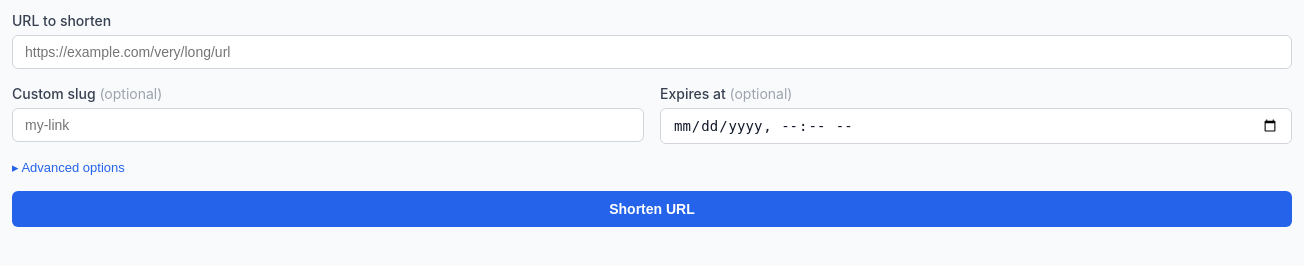
it: ShortenForm › shows a field validation error for an invalid URL
In the field labelled "URL to shorten": (652, 52) [12,35,1292,69], type "not-a-url"
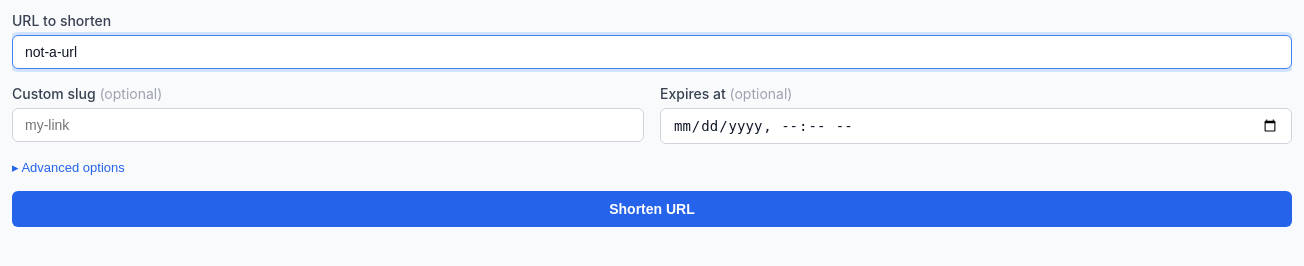
Click the button "Shorten URL": (652, 209) [12,191,1292,227]
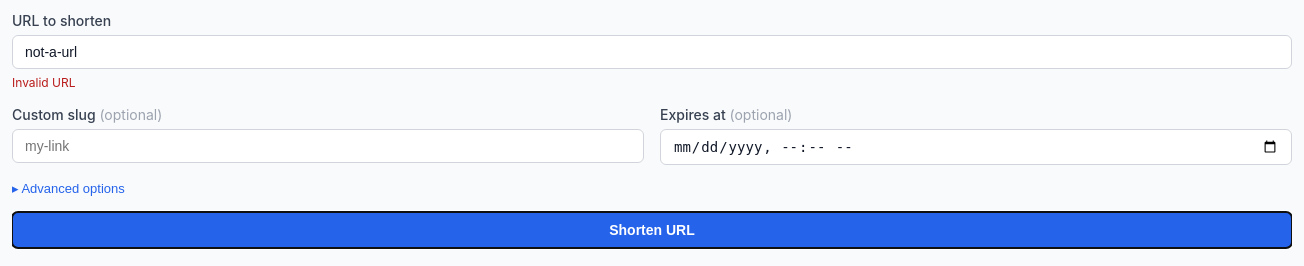
Expected: the text "Invalid URL" is shown, [12,75,76,90]
